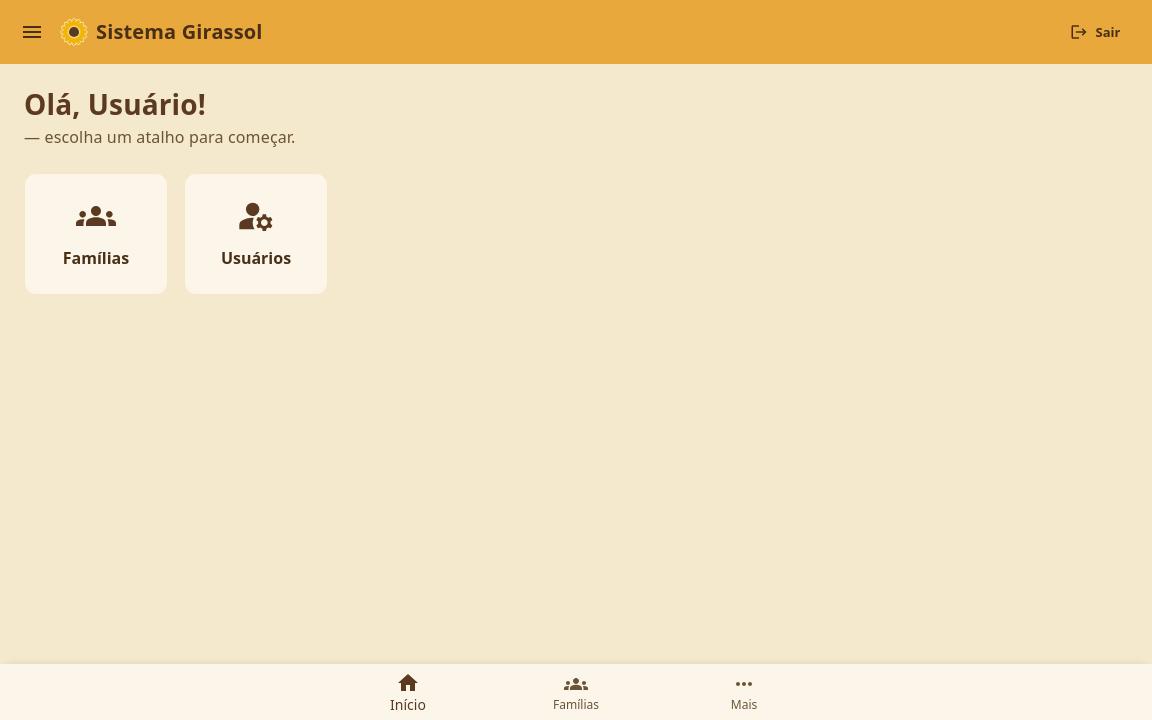
Test: AppLayout — chrome mobile › o hambúrguer abre o drawer com os módulos permitidos (Admin vê Usuários)
Click the button named "Abrir menu" at [32, 32], box [12, 12, 52, 52]
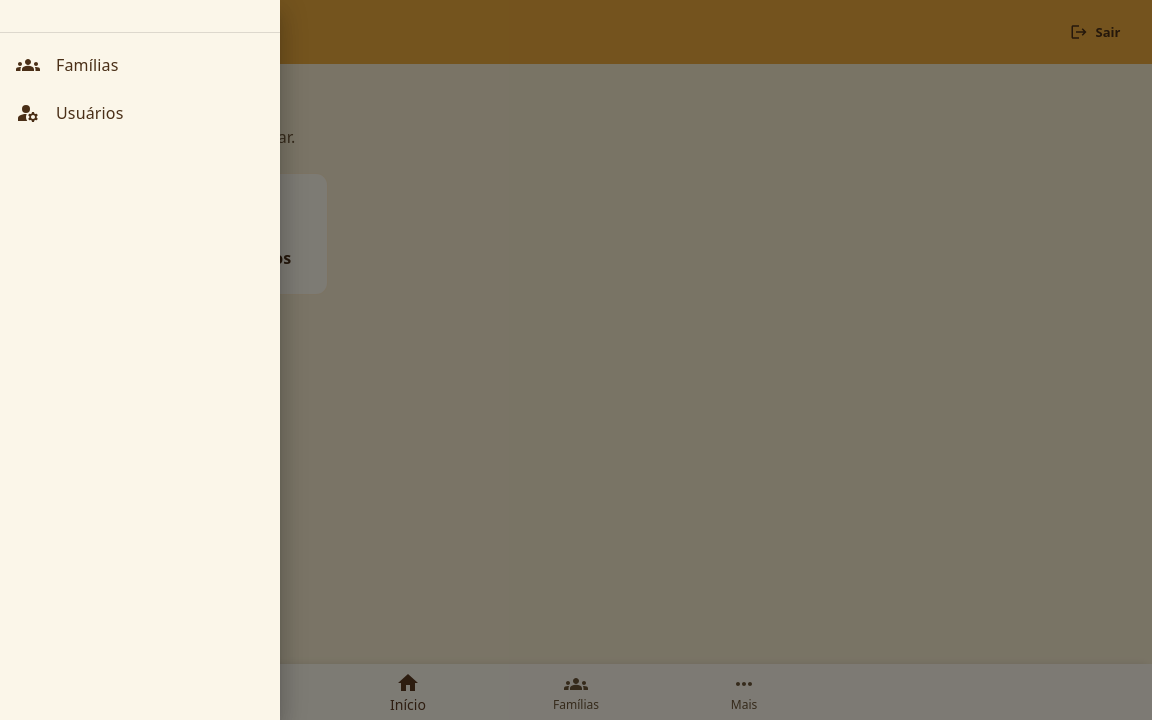
Check: the link "Usuários" is shown, box [16, 101, 124, 125]
Check: the link "Famílias" is shown, box [16, 53, 118, 77]
